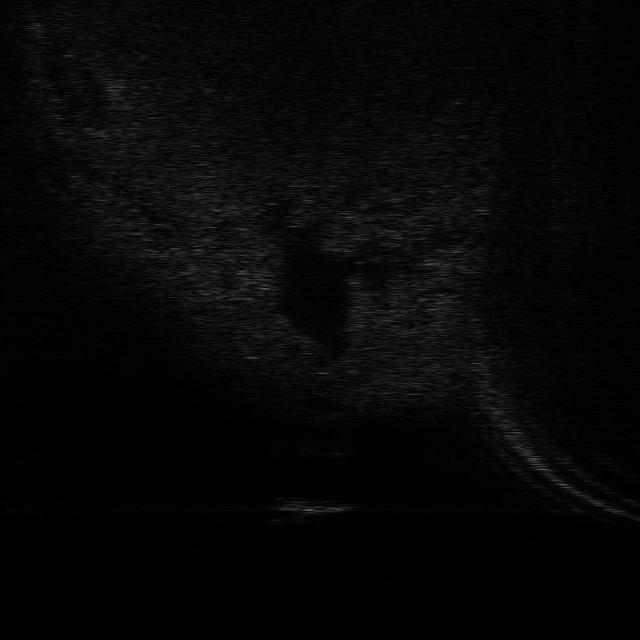cube: (268, 496, 358, 520)
